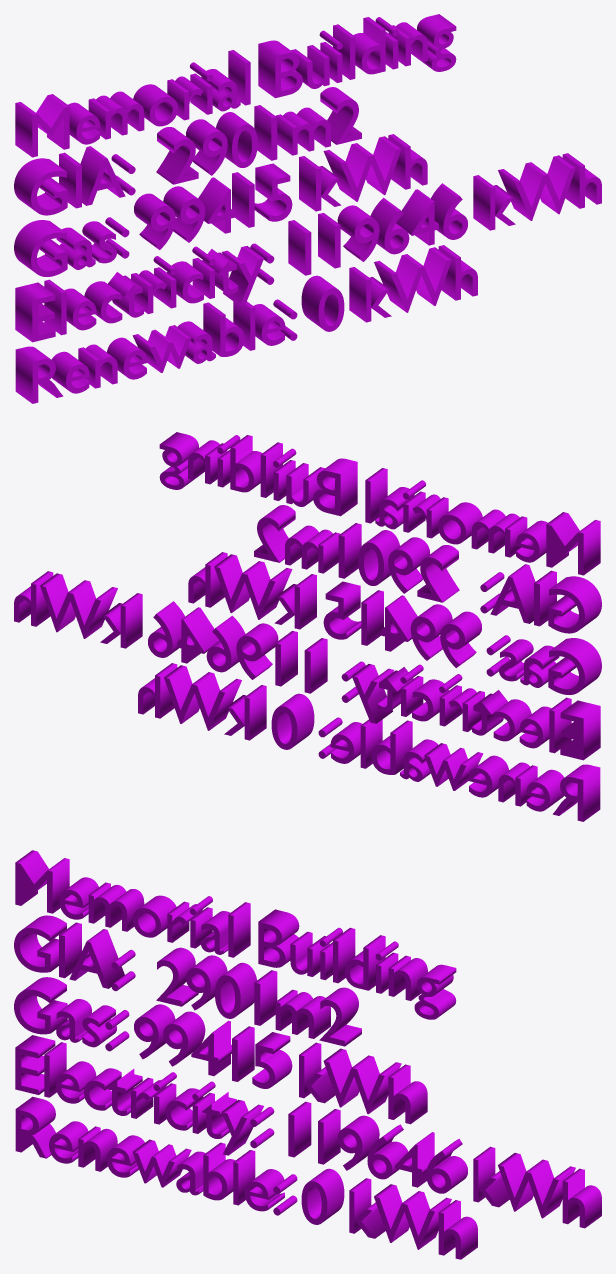
File: Memorial.gltf
3 views of the same model, one above another, from view 1: azimuth 30°, elevation 25°; view 2: azimuth 150°, elevation 25°; view 3: azimuth 330°, elevation 25° (orthographic).
Parts seen in each view (by area): view 1: Text; view 2: Text; view 3: Text.
Part boxes in pixels (x1,y1,x2,y2): Text: (14, 14, 601, 403); Text: (14, 432, 601, 821); Text: (14, 850, 601, 1259).
Size of the model in its own units: 9.7 by 4.69 by 0.5.
